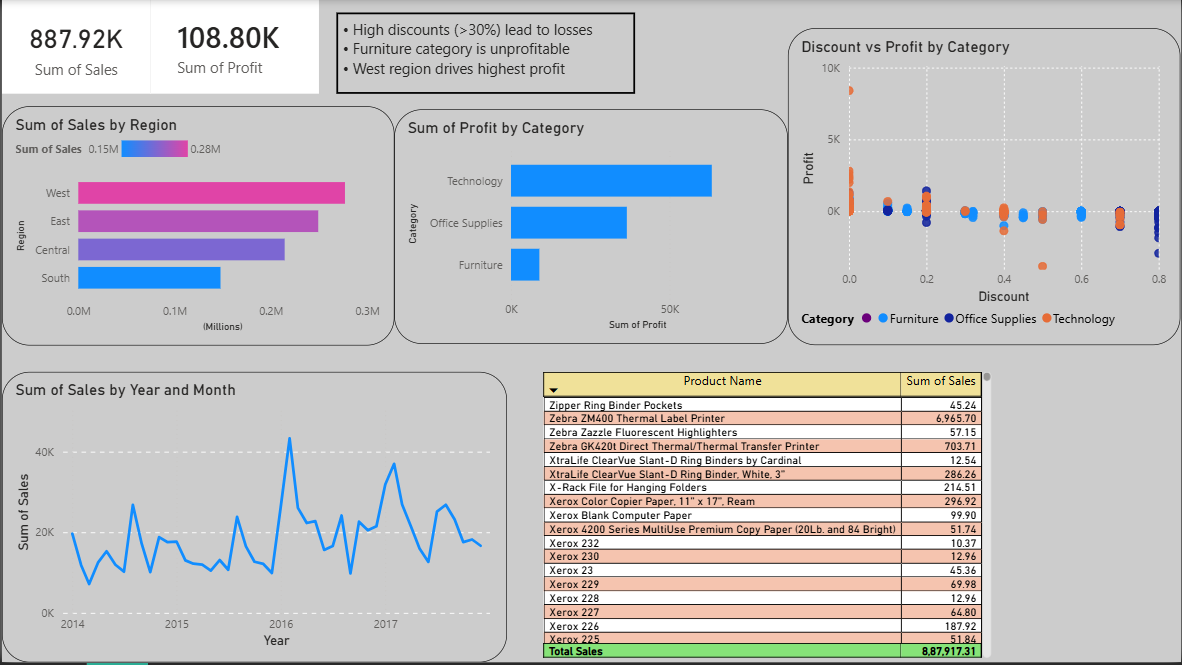

This screenshot's page, from the dashboard's own definition file:
{"tool":"powerbi","page":{"name":"Page 1","canvas":[1280,720],"ordinal":0},"visuals":[{"type":"card","fields":{"Values":["Sum(Superstore.Sales)"]},"box":[0,0,161.2,101.8],"z":0},{"type":"cardVisual","fields":{"Data":["Sum(Superstore.Profit)"]},"box":[161.2,0,183.3,101.8],"z":1000},{"type":"barChart","fields":{"Y":["Sum(Superstore.Sales)"],"Category":["Superstore.Region"]},"box":[0,115.4,426,259.7],"z":2000},{"type":"barChart","fields":{"Category":["Superstore.Category"],"Y":["Sum(Superstore.Profit)"]},"box":[426,118.8,427.7,254.6],"z":3000},{"type":"scatterChart","title":"Discount vs Profit by Category","fields":{"X":["Superstore.Discount"],"Y":["Superstore.Profit"],"Series":["Superstore.Category"]},"box":[853.7,30.5,426,344.5],"z":4000},{"type":"tableEx","fields":{"Values":["Superstore.Product Name","Sum(Superstore.Sales)"]},"box":[582.1,398.8,497.3,320.8],"z":5000},{"type":"lineChart","fields":{"Y":["Sum(Superstore.Sales)"],"Category":["Superstore.Order Date.Variation.Date Hierarchy.Year","Superstore.Order Date.Variation.Date Hierarchy.Month"]},"box":[0,403.9,548.2,315.7],"z":6000},{"type":"textbox","box":[363.2,13.6,324.2,88.3],"z":8000}]}

Visuals, with their boxes in screenshot pixels (x1, y1, x2, y2), scaled from the page's 1280x720 canvas onto the 1182x665 screenshot:
card - Sum(Superstore.Sales): x1=0 y1=0 x2=149 y2=94
cardVisual - Sum(Superstore.Profit): x1=149 y1=0 x2=318 y2=94
barChart - Sum(Superstore.Sales) x Superstore.Region: x1=0 y1=107 x2=393 y2=346
barChart - Superstore.Category x Sum(Superstore.Profit): x1=393 y1=110 x2=788 y2=345
"Discount vs Profit by Category" scatterChart: x1=788 y1=28 x2=1181 y2=346
tableEx - Superstore.Product Name x Sum(Superstore.Sales): x1=538 y1=368 x2=997 y2=664
lineChart - Sum(Superstore.Sales) x Superstore.Order Date.Variation.Date Hierarchy.Year: x1=0 y1=373 x2=506 y2=664
textbox: x1=335 y1=13 x2=635 y2=94
